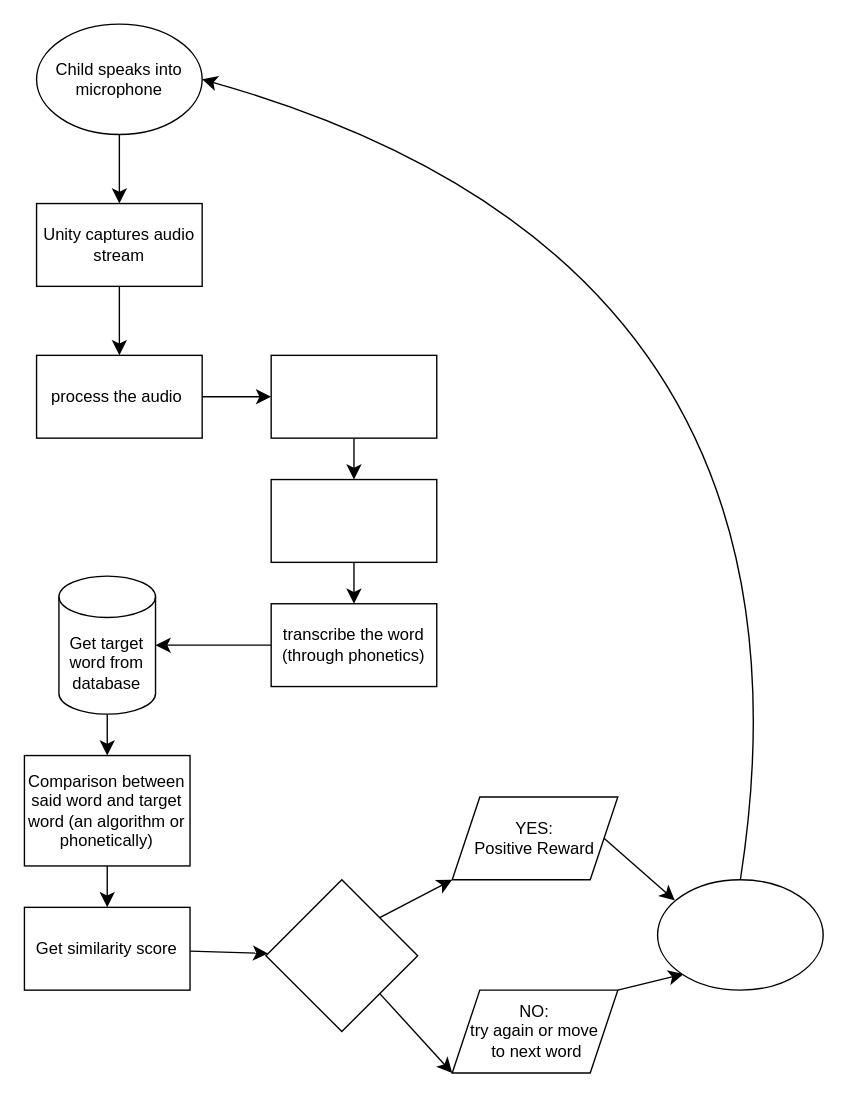
This 847x1097 diagram has some shape labels left out. Here are the shapes that lost their labels. From the top down, the centre of each, then its label:
point (353, 396): Send audio to Unity Inference Engine (prev. Sentis)
point (353, 520): Whisper Model processes the audio
point (739, 934): Next Word
point (341, 955): similarity >= threshhold
